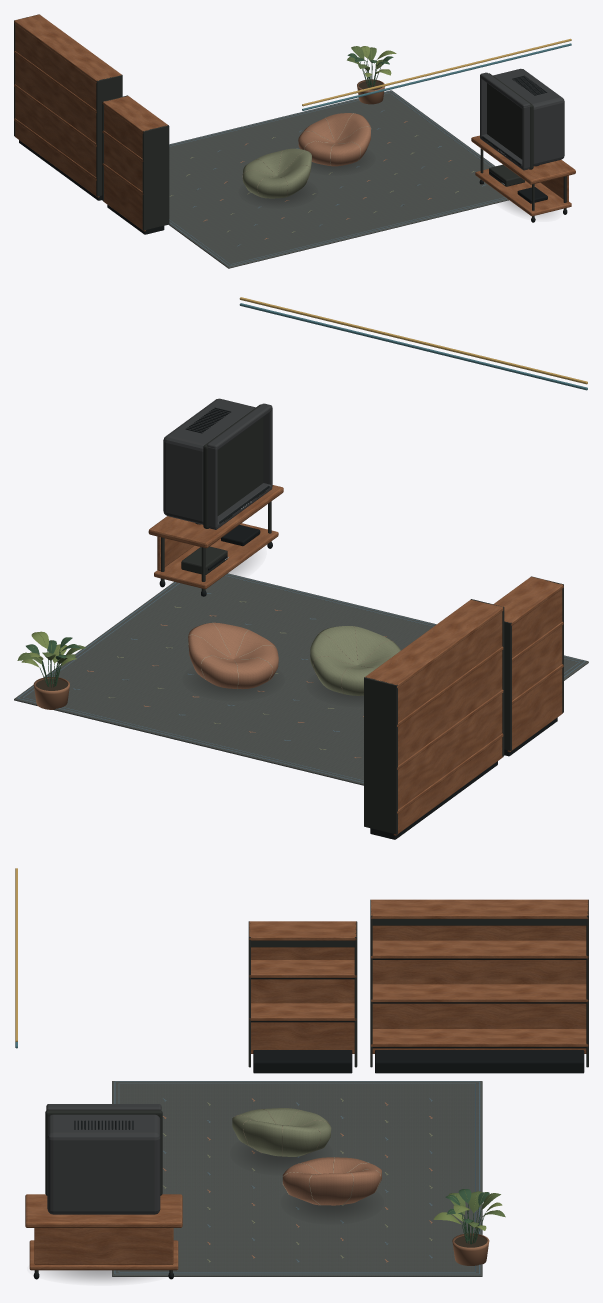
File: retro.glb
3 renders of one model, top to bottom at view 1: azimuth 30°, elevation 25°; view 2: azimuth 150°, elevation 25°; view 3: azimuth 270°, elevation 25°, orthographic. The views are drawn at different scales.
Visible parts, largest first — view 1: retro | M08 | Graphite twill, retro | M03 | Oiled American walnut, retro | M06 | Powder-coated steel, retro | Graphite speaker cloth, retro | M08 | Burnt sienna canvas, retro | M08 | Moss boucle, retro | M08 | Mineral blue canvas, retro | M06 | Lacquered graphite, retro | Glazed petrol, retro | Ochre enamel, retro | Soft contact occlusion, retro | Stacked ceramic clay (+2 smaller); view 2: retro | M08 | Graphite twill, retro | M03 | Oiled American walnut, retro | M06 | Powder-coated steel, retro | Graphite speaker cloth, retro | M08 | Burnt sienna canvas, retro | M08 | Moss boucle, retro | M06 | Lacquered graphite, retro | M08 | Mineral blue canvas, retro | Ochre enamel, retro | Glazed petrol, retro | Soft contact occlusion, retro | Stacked ceramic clay (+1 smaller); view 3: retro | M08 | Graphite twill, retro | M03 | Oiled American walnut, retro | Graphite speaker cloth, retro | M06 | Lacquered graphite, retro | M06 | Powder-coated steel, retro | M08 | Moss boucle, retro | M08 | Burnt sienna canvas, retro | M08 | Mineral blue canvas, retro | Soft contact occlusion, retro | Stacked ceramic clay, retro | M08 | Leaf 0, retro | M08 | Leaf 1.
Boxes of the visible parts, x1,y1,x2,y2 form: retro | M08 | Graphite twill: (168, 90, 508, 268); retro | M03 | Oiled American walnut: (14, 14, 575, 231); retro | M06 | Powder-coated steel: (14, 14, 566, 230); retro | Graphite speaker cloth: (480, 68, 564, 170); retro | M08 | Burnt sienna canvas: (203, 113, 451, 239); retro | M08 | Moss boucle: (169, 135, 475, 232); retro | M08 | Mineral blue canvas: (169, 91, 506, 266); retro | M06 | Lacquered graphite: (19, 75, 567, 234); retro | Glazed petrol: (302, 43, 571, 110); retro | Ochre enamel: (302, 38, 571, 106); retro | Soft contact occlusion: (250, 156, 548, 215); retro | Stacked ceramic clay: (357, 79, 384, 104); retro | M08 | Graphite twill: (14, 573, 588, 785); retro | M03 | Oiled American walnut: (148, 485, 563, 835); retro | M06 | Powder-coated steel: (160, 404, 563, 834); retro | Graphite speaker cloth: (163, 398, 272, 529); retro | M08 | Burnt sienna canvas: (87, 609, 386, 758); retro | M08 | Moss boucle: (108, 601, 400, 749); retro | M06 | Lacquered graphite: (159, 407, 557, 839); retro | M08 | Mineral blue canvas: (17, 574, 585, 782); retro | Ochre enamel: (239, 297, 587, 384); retro | Glazed petrol: (239, 303, 587, 390); retro | Soft contact occlusion: (197, 557, 363, 700); retro | Stacked ceramic clay: (33, 677, 69, 709); retro | M08 | Graphite twill: (112, 1081, 482, 1276); retro | M03 | Oiled American walnut: (25, 899, 588, 1270); retro | Graphite speaker cloth: (46, 1104, 161, 1214); retro | M06 | Lacquered graphite: (33, 958, 586, 1279); retro | M06 | Powder-coated steel: (34, 899, 588, 1273); retro | M08 | Moss boucle: (163, 1098, 432, 1262); retro | M08 | Burnt sienna canvas: (163, 1098, 432, 1262); retro | M08 | Mineral blue canvas: (114, 1081, 480, 1274); retro | Soft contact occlusion: (50, 1147, 368, 1280); retro | Stacked ceramic clay: (452, 1233, 489, 1265); retro | M08 | Leaf 0: (445, 1189, 489, 1244); retro | M08 | Leaf 1: (448, 1191, 505, 1227).
Size of the model in its own units: 6.8 by 3.33 by 7.26.
21 materials, 8 textured.
